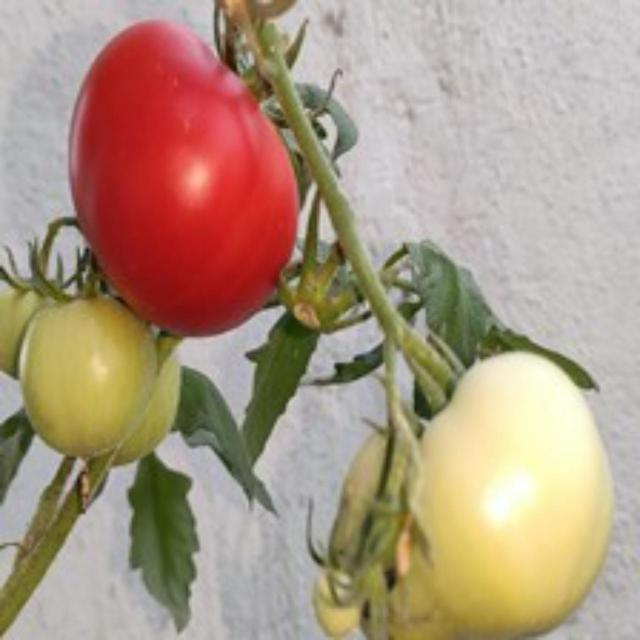tomato: (68, 8, 300, 346)
